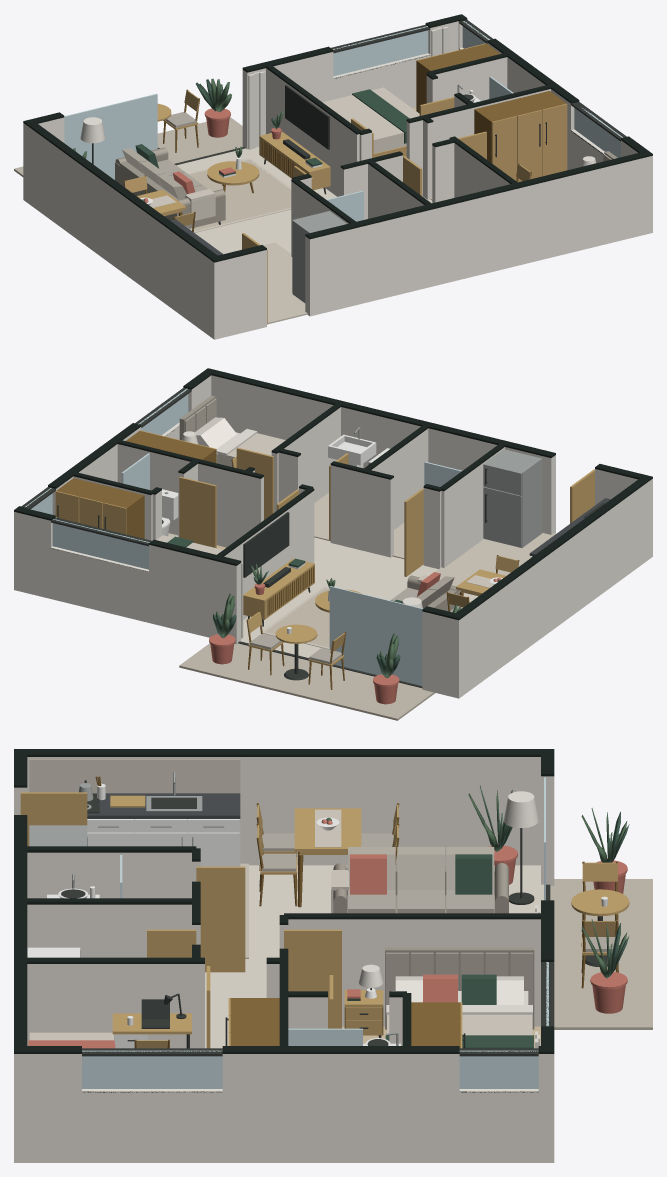
The model's file is jda-interior-tipo-b-terreo-simples.glb.
The picture shows the model from 3 angles, top to bottom: view 1: azimuth 30°, elevation 25°; view 2: azimuth 150°, elevation 25°; view 3: azimuth 270°, elevation 25°; orthographic projection. The views are drawn at different scales.
Visible parts, largest first — view 1: VIS__INTB_PAREDE, VIS__INTB_MADEIRA, VIS__INTB_CORTE, VIS__INTB_VIDRO, VIS__INTB_MADEIRA_ESC, VIS__INTB_PISO, VIS__INTB_TECIDO2, VIS__INTB_ESCURO, VIS__INTB_TAPETE, VIS__INTB_TECIDO, VIS__INTB_VARANDA, VIS__INTB_MOLHADO (+6 smaller); view 2: VIS__INTB_PAREDE, VIS__INTB_MADEIRA, VIS__INTB_VIDRO, VIS__INTB_CORTE, VIS__INTB_VARANDA, VIS__INTB_PISO, VIS__INTB_INOX, VIS__INTB_MADEIRA_ESC, VIS__INTB_ESCURO, VIS__INTB_MOLHADO, VIS__INTB_ESTOFADO2, VIS__INTB_BRANCO (+7 smaller); view 3: VIS__INTB_PAREDE, VIS__INTB_MADEIRA, VIS__INTB_CORTE, VIS__INTB_ESTOFADO2, VIS__INTB_TECIDO2, VIS__INTB_VARANDA, VIS__INTB_VIDRO, VIS__INTB_PISO, VIS__INTB_BRANCO, VIS__INTB_MADEIRA_ESC, VIS__INTB_ESCURO, VIS__INTB_TERRACOTA (+6 smaller).
Boxes of the visible parts, x1,y1,x2,y2 form: VIS__INTB_PAREDE: (23,21,652,339); VIS__INTB_MADEIRA: (124,43,567,324); VIS__INTB_CORTE: (23,14,652,262); VIS__INTB_VIDRO: (64,21,622,221); VIS__INTB_MADEIRA_ESC: (124,44,566,231); VIS__INTB_PISO: (176,147,432,324); VIS__INTB_TECIDO2: (149,87,419,232); VIS__INTB_ESCURO: (92,20,626,224); VIS__INTB_TAPETE: (189,160,291,230); VIS__INTB_TECIDO: (80,26,596,166); VIS__INTB_VARANDA: (14,117,242,176); VIS__INTB_MOLHADO: (263,242,307,323); VIS__INTB_PAREDE: (14,375,652,698); VIS__INTB_MADEIRA: (55,430,594,666); VIS__INTB_VIDRO: (25,388,462,685); VIS__INTB_CORTE: (14,368,652,620); VIS__INTB_VARANDA: (179,643,435,720); VIS__INTB_PISO: (240,537,477,657); VIS__INTB_INOX: (164,427,542,547); VIS__INTB_MADEIRA_ESC: (56,431,519,689); VIS__INTB_ESCURO: (21,387,604,687); VIS__INTB_MOLHADO: (168,493,555,586); VIS__INTB_ESTOFADO2: (184,398,462,664); VIS__INTB_BRANCO: (162,434,532,633); VIS__INTB_PAREDE: (14,757,554,1162); VIS__INTB_MADEIRA: (20,792,629,1048); VIS__INTB_CORTE: (14,749,554,1092); VIS__INTB_ESTOFADO2: (262,833,615,1004); VIS__INTB_TECIDO2: (29,759,532,1040); VIS__INTB_VARANDA: (550,879,652,1029); VIS__INTB_VIDRO: (82,777,548,1088); VIS__INTB_PISO: (205,865,543,1048); VIS__INTB_BRANCO: (27,783,608,1048); VIS__INTB_MADEIRA_ESC: (95,776,618,1048); VIS__INTB_ESCURO: (61,780,607,1056); VIS__INTB_TERRACOTA: (28,819,627,1048).
Bounding box in the file's own units: 8.15 × 1.44 × 7.28.
